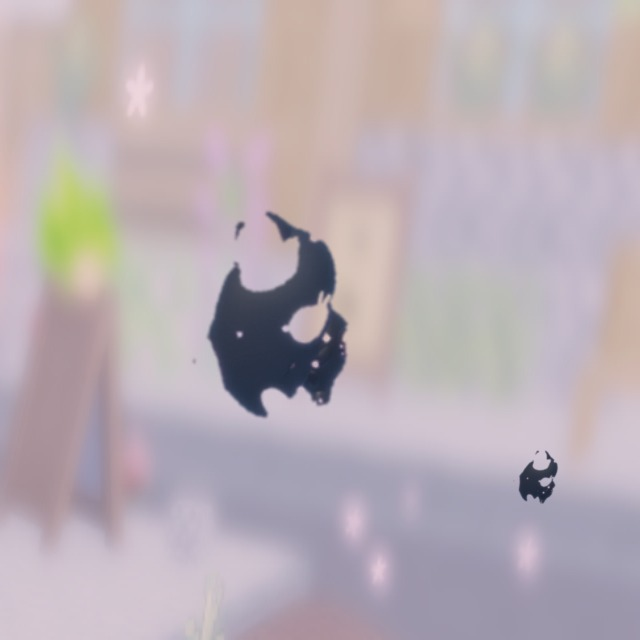urso_preto: (165, 173, 391, 464), (500, 436, 577, 520)
